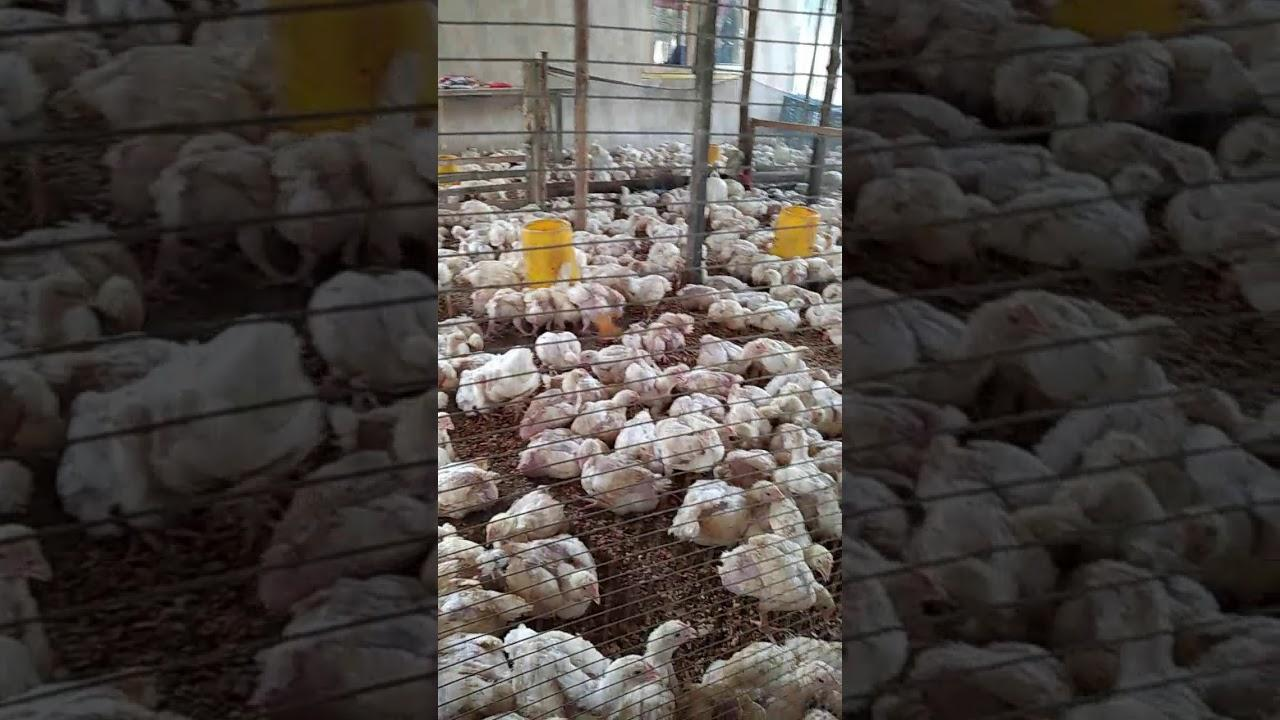chicken: (718, 536, 836, 637), (527, 619, 696, 682), (494, 538, 601, 617), (668, 478, 787, 541), (577, 437, 669, 517), (781, 422, 842, 539), (459, 347, 535, 416), (521, 369, 589, 436), (489, 490, 564, 540), (656, 418, 723, 469), (524, 427, 584, 478), (574, 390, 638, 437), (626, 364, 688, 410), (580, 346, 659, 379), (698, 334, 766, 372), (747, 298, 808, 332), (538, 332, 581, 372)
